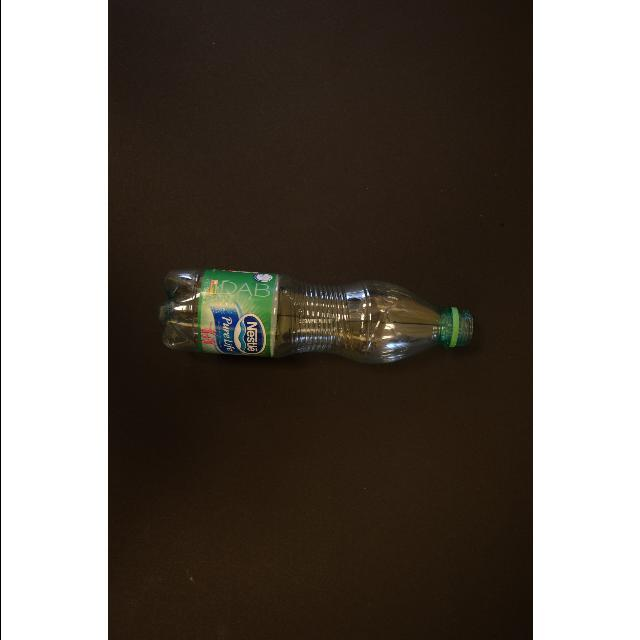PET Bottle: (134, 229, 476, 407)
